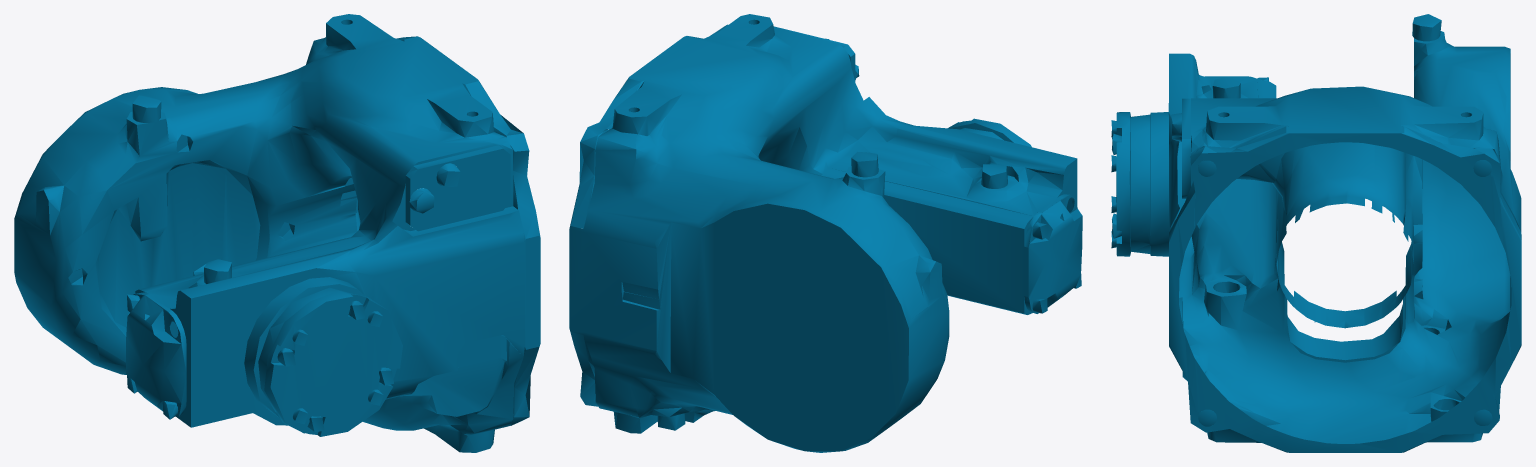
The picture shows the model from 3 angles, left to right: view 1: azimuth 30°, elevation 25°; view 2: azimuth 150°, elevation 25°; view 3: azimuth 270°, elevation 25°; orthographic projection. The views are drawn at different scales.
Parts seen in each view (by area): view 1: f_1-06vxh25-a0_lk5; view 2: f_1-06vxh25-a0_lk5; view 3: f_1-06vxh25-a0_lk5.
Boxes of the visible parts, x1,y1,x2,y2 form: f_1-06vxh25-a0_lk5: [14, 14, 540, 452]; f_1-06vxh25-a0_lk5: [569, 14, 1082, 452]; f_1-06vxh25-a0_lk5: [1111, 14, 1521, 452].
Size of the model in its own units: 0.1493 by 0.1489 by 0.1282.
